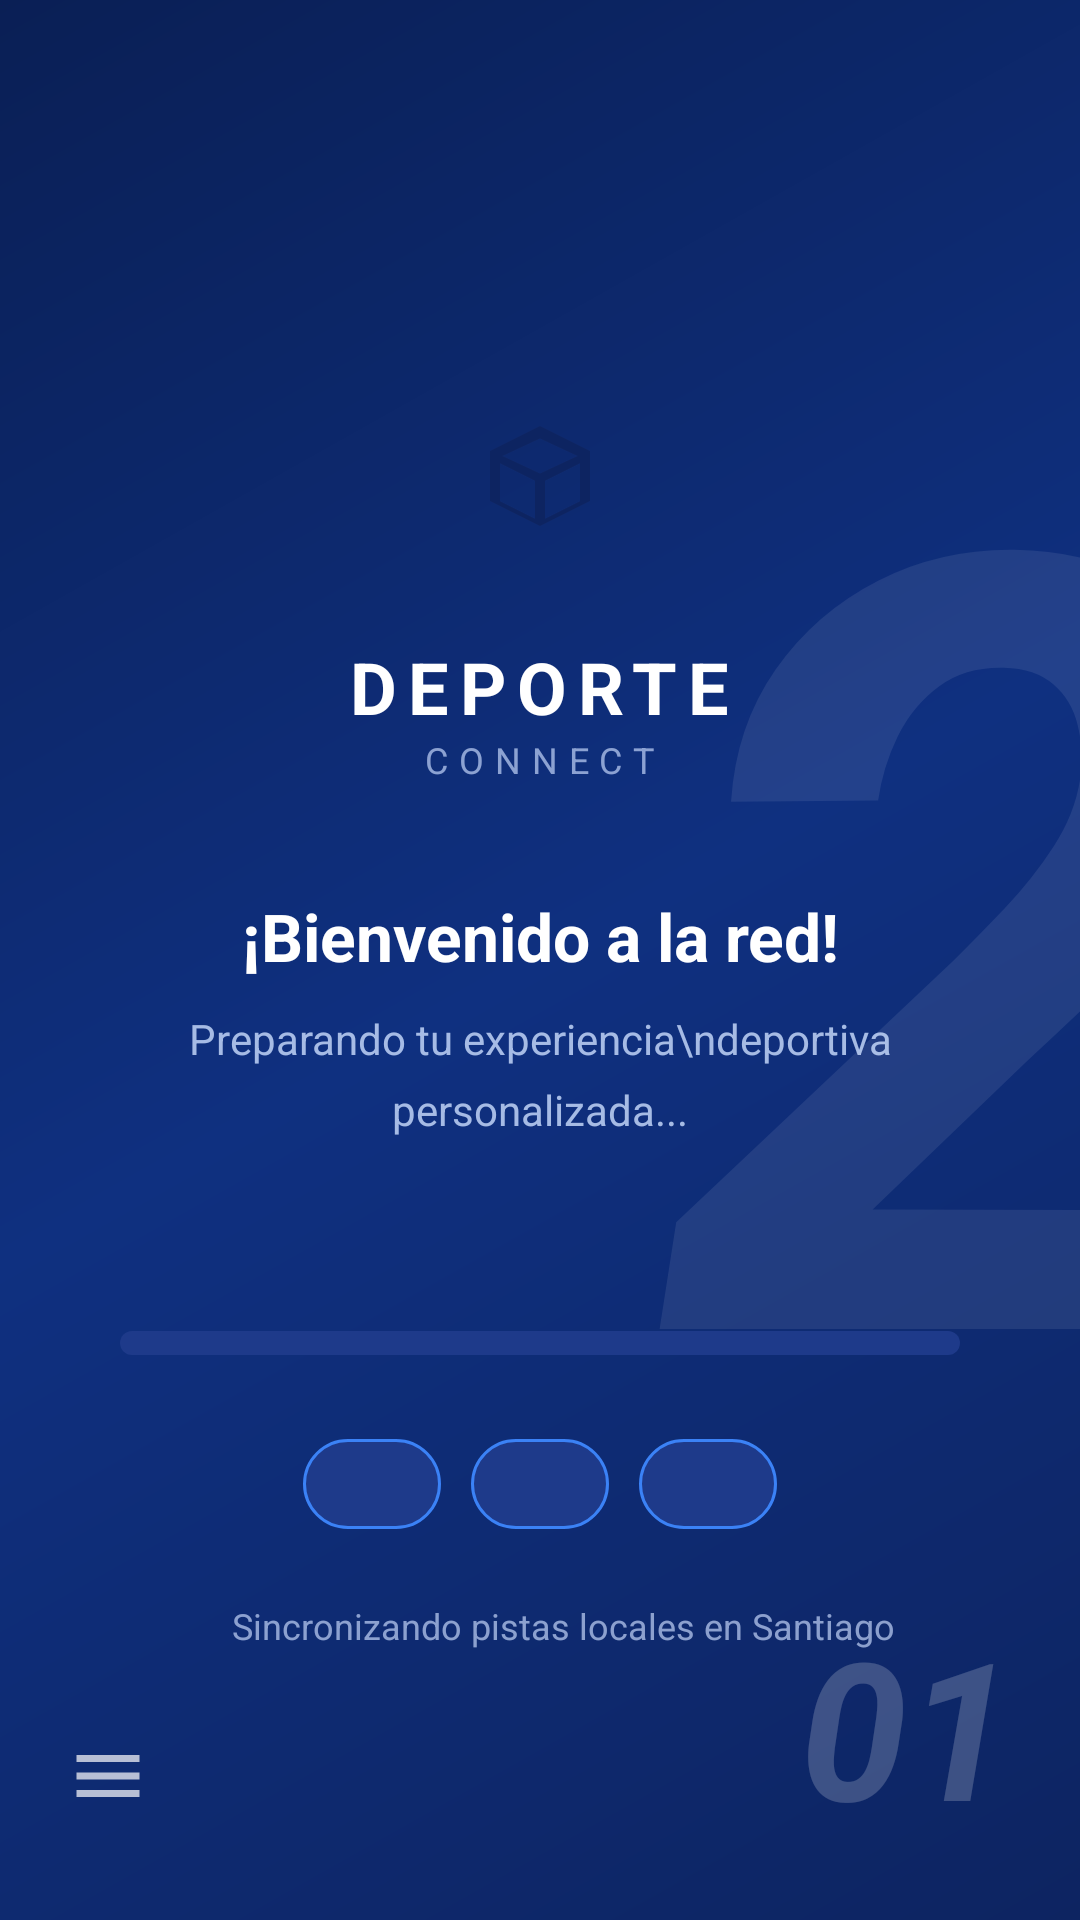

Locate icon controls on the screen. Image size 1080 × 1920, boxes as (x1, y1, x2, y2).
lines: (76, 1755, 140, 1797)
